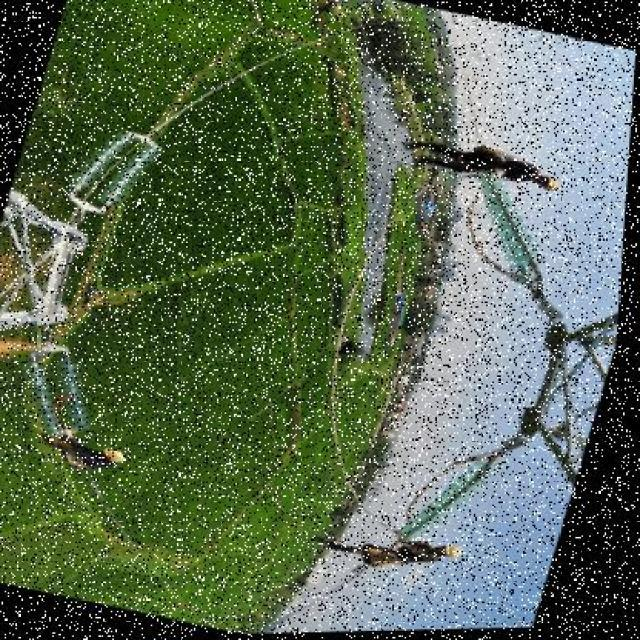helmet: (100, 438, 138, 470), (536, 171, 568, 197), (445, 542, 471, 566)
